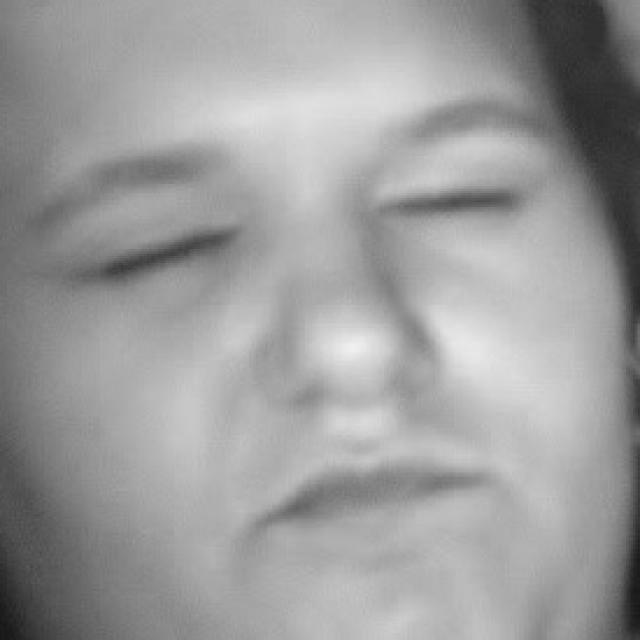real: (20, 52, 614, 615), (68, 156, 546, 286)
